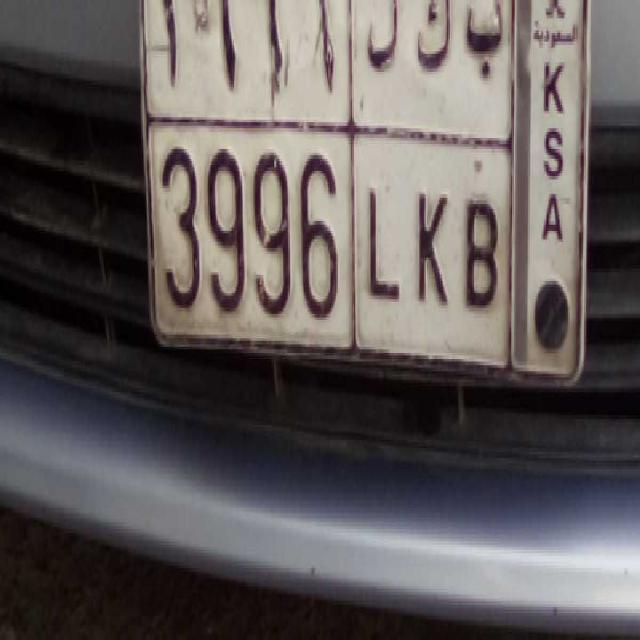license_plate: (157, 108, 506, 342)
